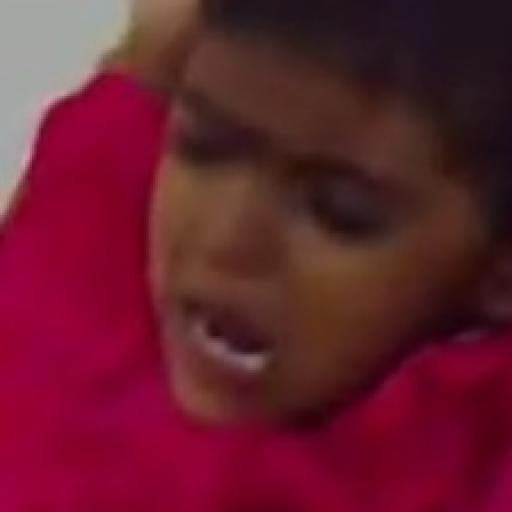Autism: (134, 11, 512, 485)
